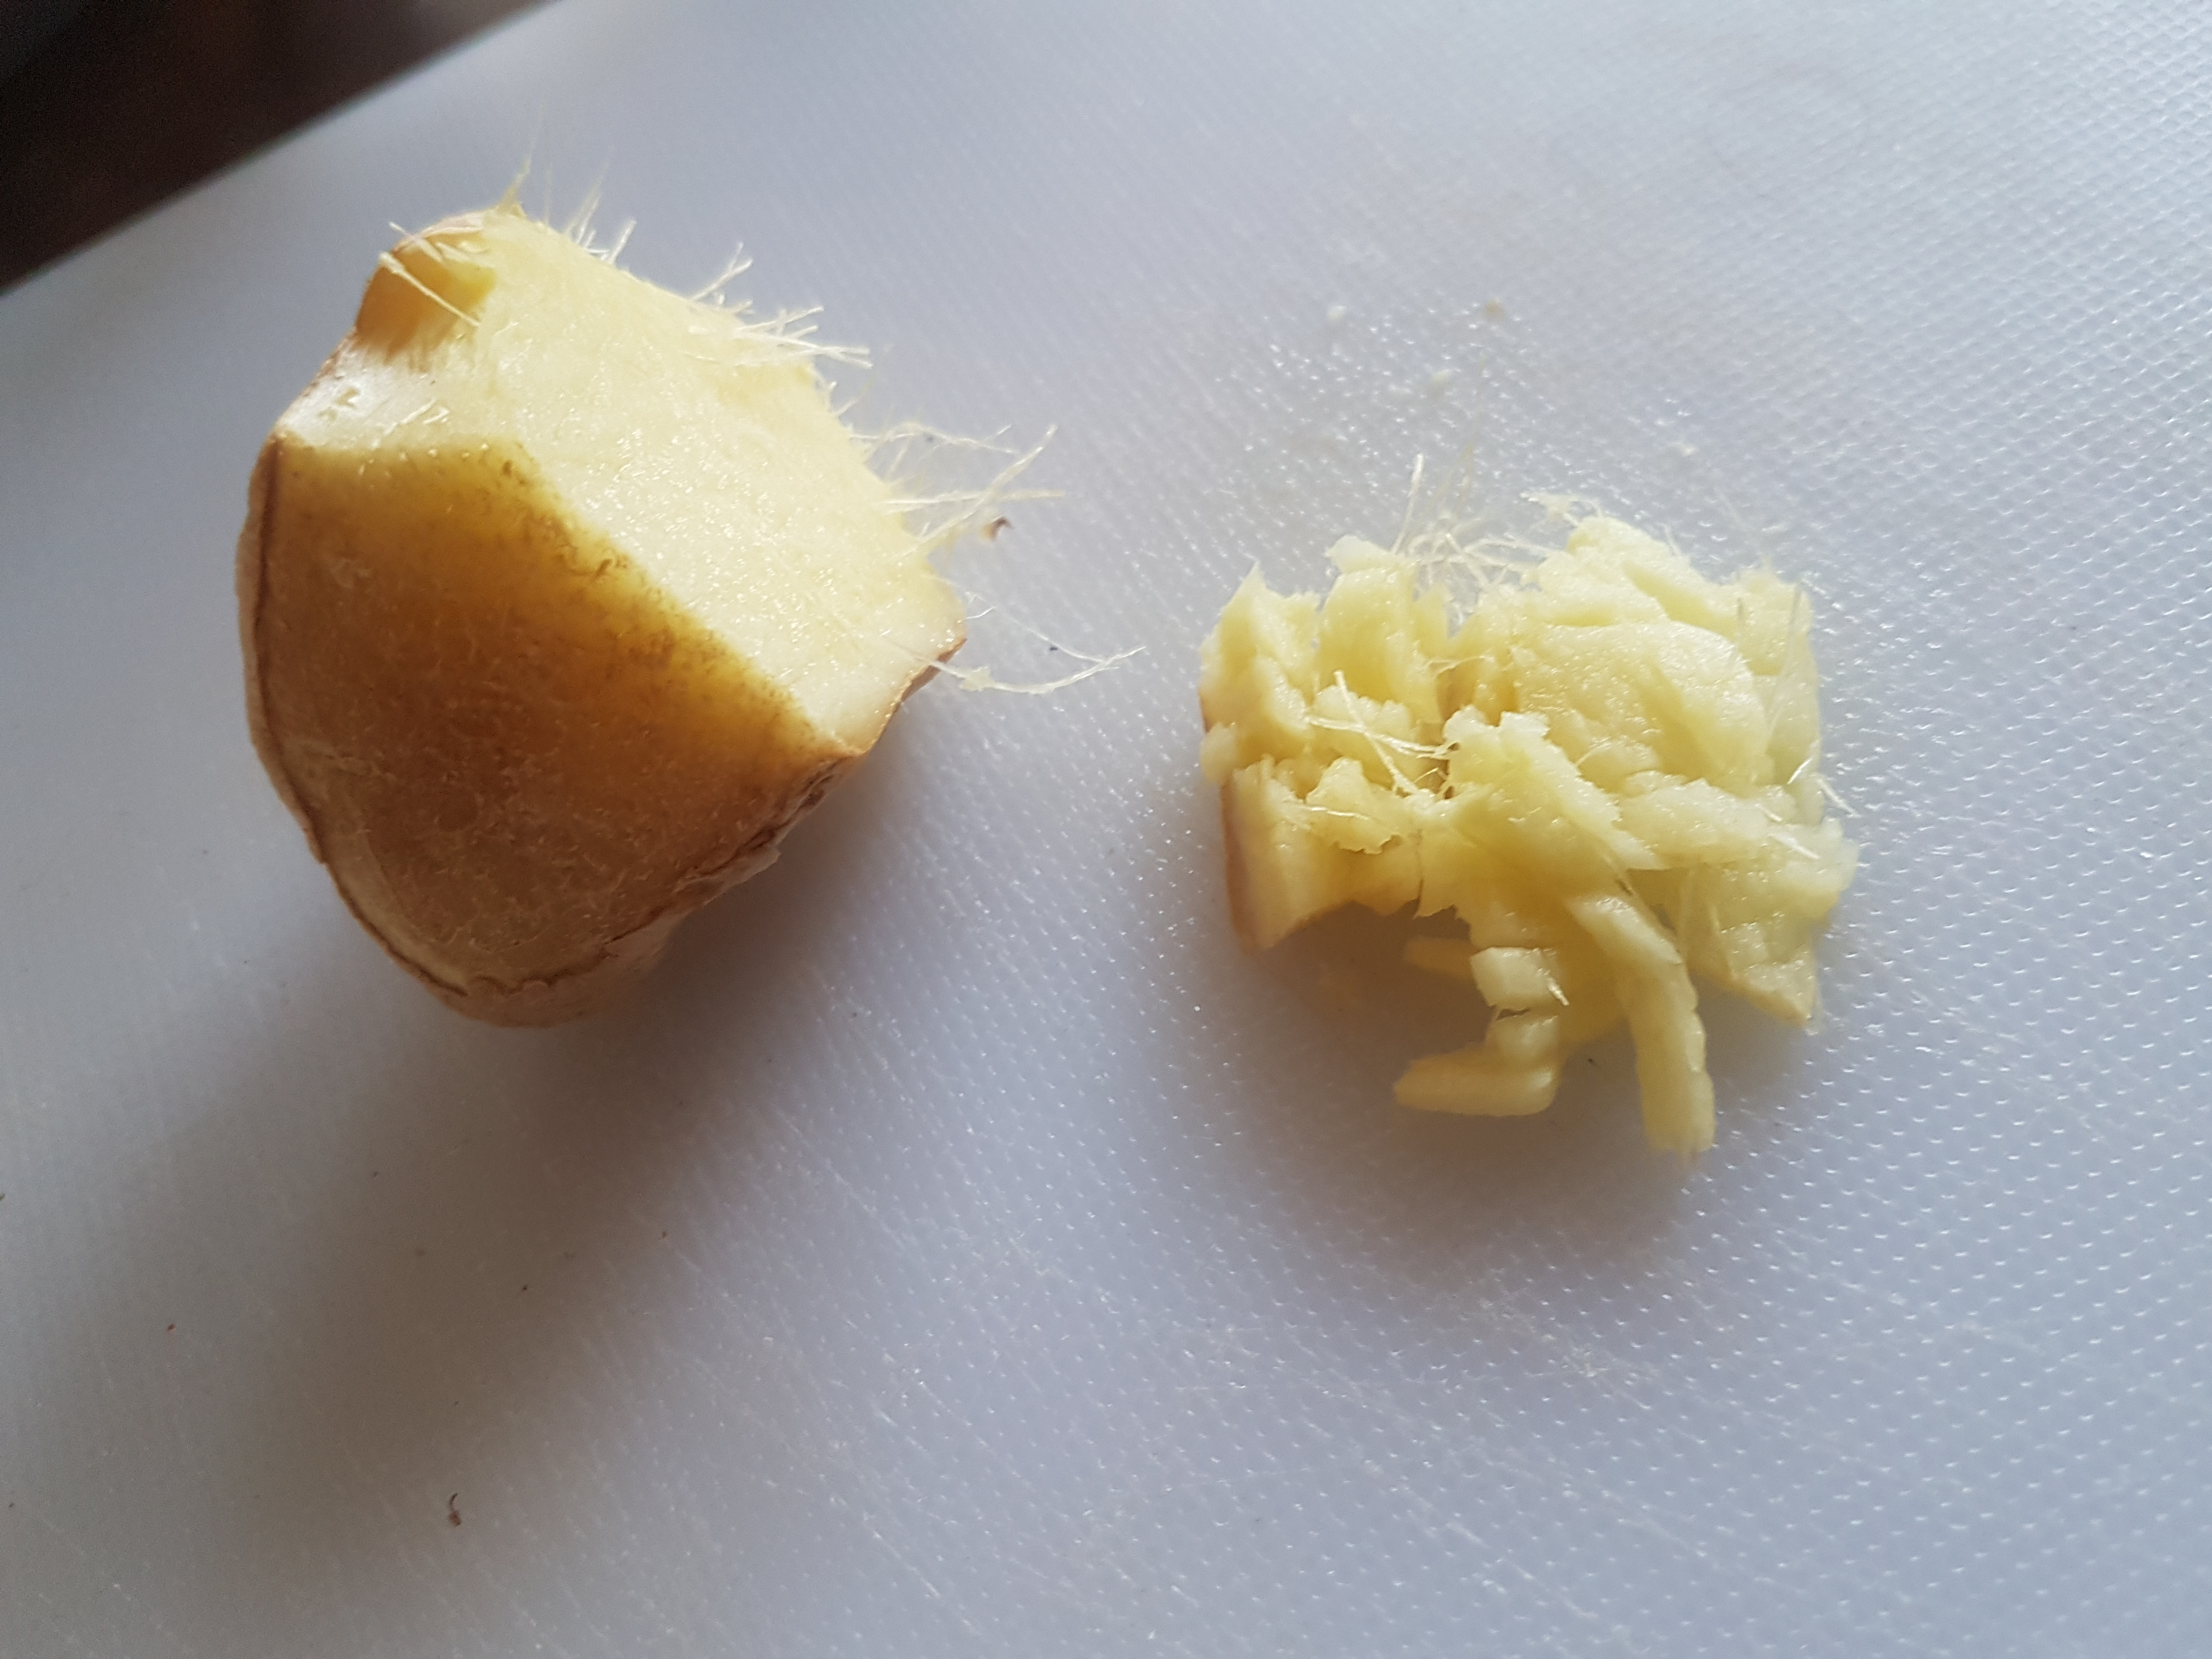Minced ginger: (246, 166, 1029, 1025), (1209, 516, 1946, 1195)
